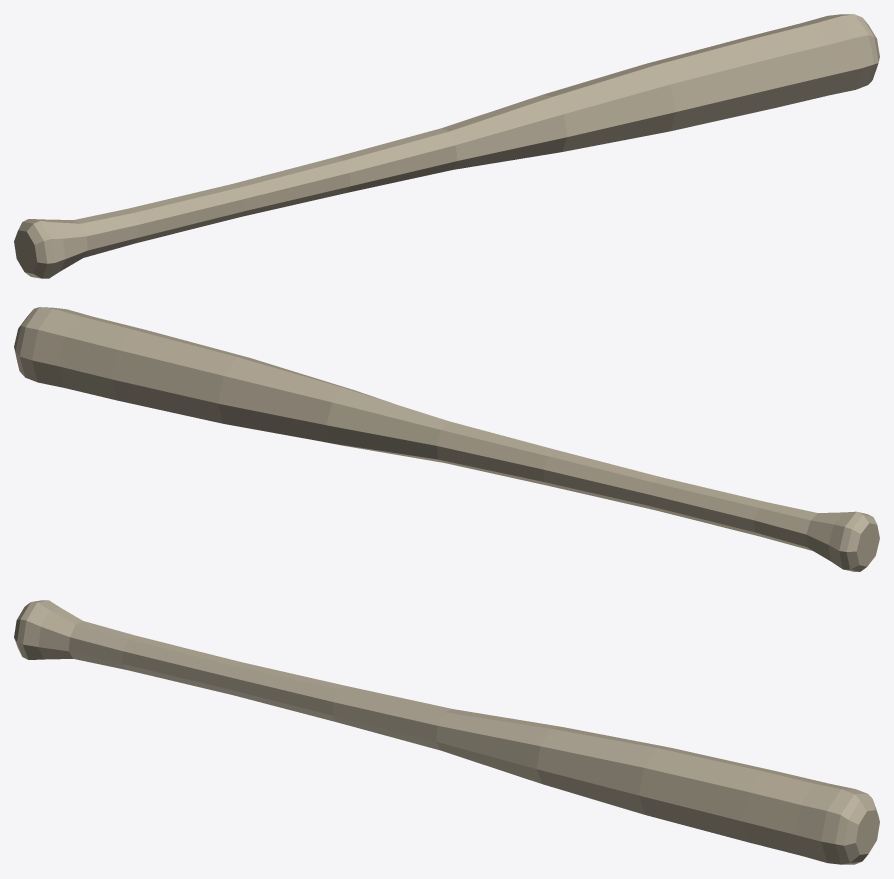
File: baseballBat_mdl_v001.fbx
3 views of the same model, one above another, from view 1: azimuth 30°, elevation 25°; view 2: azimuth 150°, elevation 25°; view 3: azimuth 330°, elevation 25° (orthographic).
Visible parts, largest first — view 1: baseballBat; view 2: baseballBat; view 3: baseballBat.
Part boxes in pixels (x1=…): baseballBat: x1=14, y1=14, x2=879, y2=278; baseballBat: x1=14, y1=307, x2=879, y2=571; baseballBat: x1=14, y1=600, x2=879, y2=864.
Size of the model in its own units: 32 by 2.69 by 2.69.
